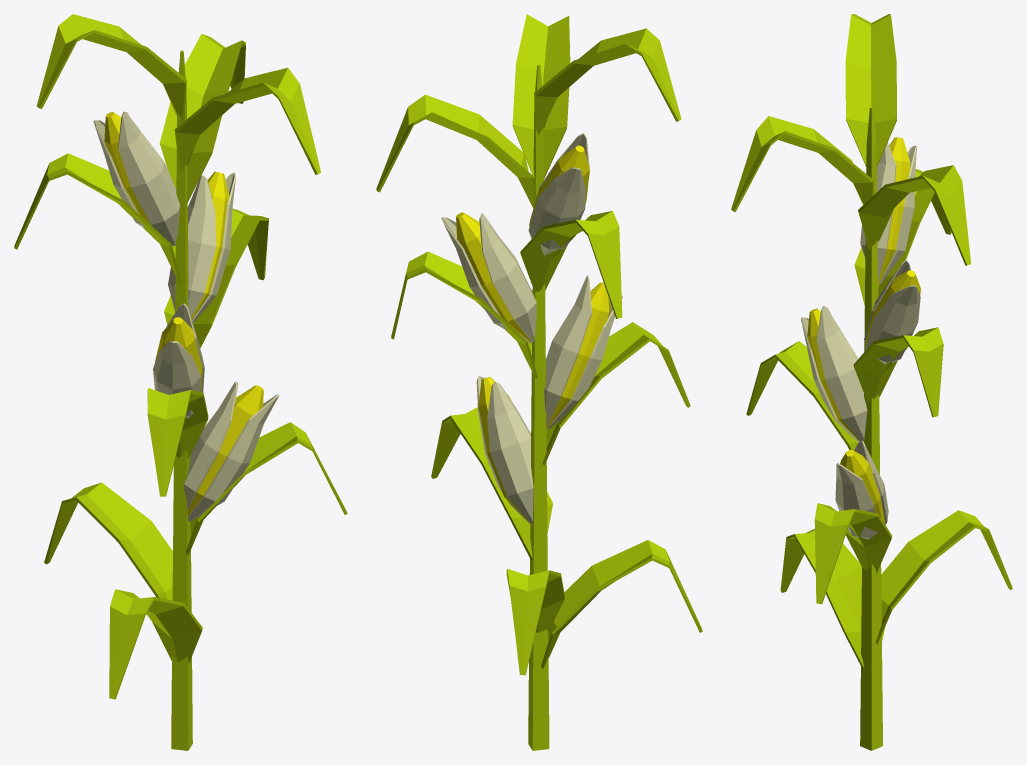
The model's file is corn_03_full.fbx.
3 renders of one model, left to right at view 1: azimuth 30°, elevation 25°; view 2: azimuth 150°, elevation 25°; view 3: azimuth 270°, elevation 25°, orthographic. The views are drawn at different scales.
Visible parts, largest first — view 1: Cube, Circle.001; view 2: Cube, Circle.001; view 3: Cube, Circle.001.
Boxes of the visible parts, left/top/right/bottom form: Cube: left=14, top=14, right=347, bottom=750; Circle.001: left=93, top=111, right=279, bottom=521; Cube: left=376, top=14, right=702, bottom=750; Circle.001: left=441, top=133, right=622, bottom=525; Cube: left=731, top=14, right=1012, bottom=750; Circle.001: left=801, top=137, right=920, bottom=539.
Size of the model in its own units: 60.57 by 154 by 57.24.
